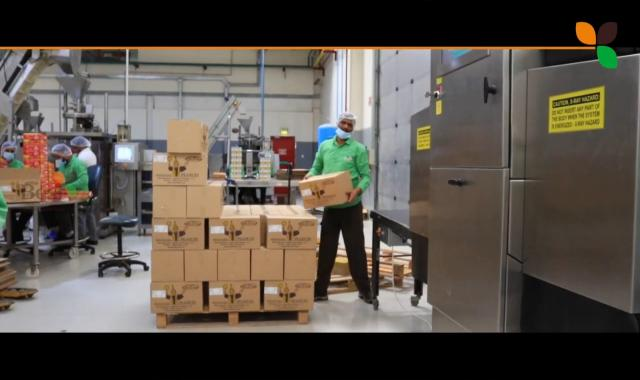hairnet: (335, 113, 360, 134), (70, 134, 96, 152), (52, 143, 72, 162), (0, 139, 16, 159)
